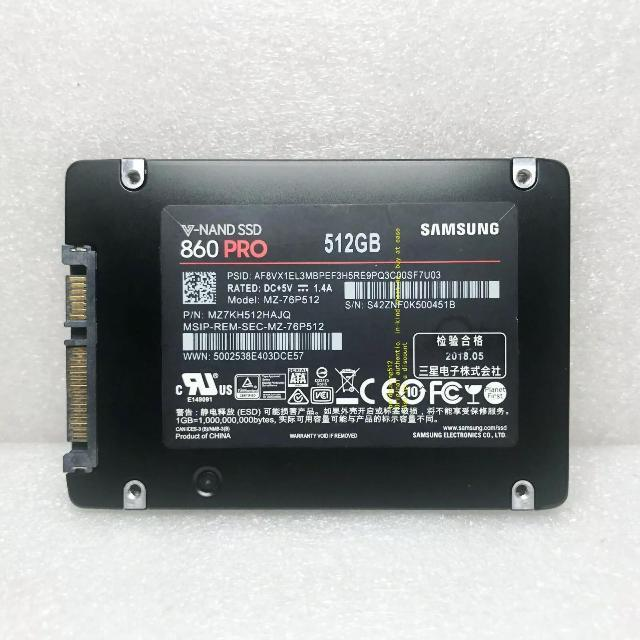DISK: (60, 156, 573, 514)
